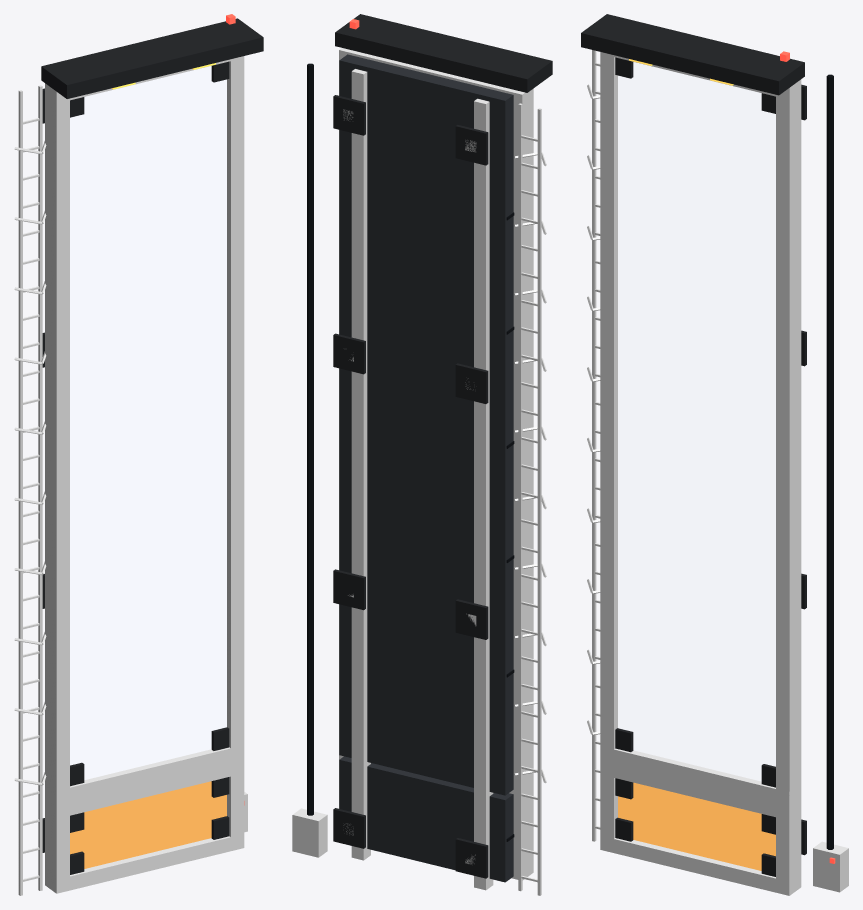
File: corp_pylon.gltf
3 views of the same model, side by side, from view 1: azimuth 30°, elevation 25°; view 2: azimuth 150°, elevation 25°; view 3: azimuth 330°, elevation 25° (orthographic). The views are drawn at different scales.
Visible parts, largest first — view 1: face, steel, detail_steel, graphite, info, detail_graphite; view 2: panel, steel, graphite, detail_steel, dark, olive; view 3: face, steel, graphite, info, dark, detail_steel, detail_graphite, olive.
Boxes of the visible parts, x1=… form: face: x1=70, y1=66, x2=226, y2=780; steel: x1=45, y1=56, x2=244, y2=893; detail_steel: x1=14, y1=85, x2=46, y2=895; graphite: x1=41, y1=18, x2=263, y2=852; info: x1=70, y1=781, x2=226, y2=868; detail_graphite: x1=70, y1=61, x2=229, y2=874; panel: x1=339, y1=54, x2=513, y2=882; steel: x1=339, y1=48, x2=533, y2=890; graphite: x1=333, y1=14, x2=552, y2=878; detail_steel: x1=514, y1=103, x2=546, y2=895; dark: x1=307, y1=63, x2=313, y2=815; olive: x1=292, y1=808, x2=327, y2=857; face: x1=618, y1=62, x2=775, y2=781; steel: x1=600, y1=52, x2=801, y2=895; graphite: x1=581, y1=14, x2=806, y2=855; info: x1=618, y1=782, x2=775, y2=870; dark: x1=826, y1=74, x2=833, y2=849; detail_steel: x1=587, y1=50, x2=600, y2=841; detail_graphite: x1=615, y1=57, x2=775, y2=876; olive: x1=813, y1=841, x2=848, y2=892.
Size of the model in its own units: 5.42 by 17.92 by 1.85.
